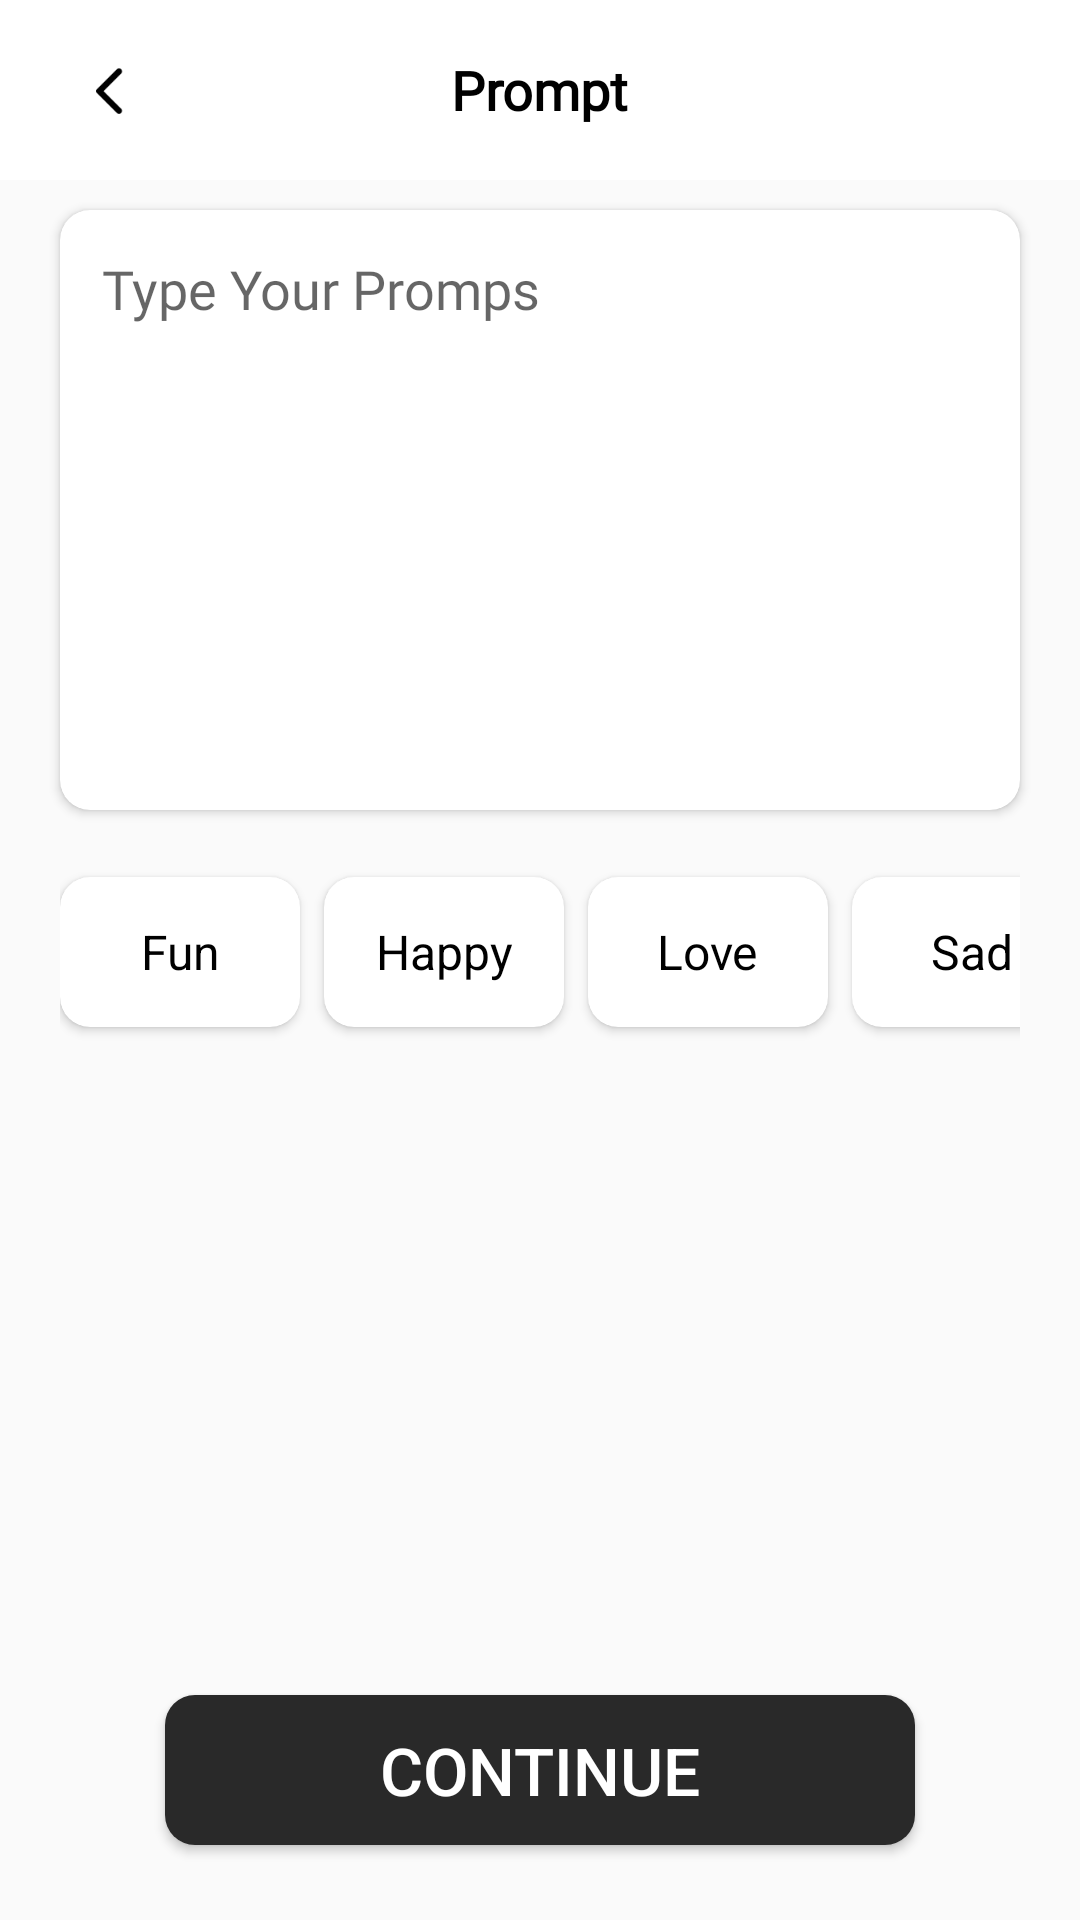

Icons on this 1080*1920 Android screen, each with the point to tap as [x,y]:
back: [109,91]
